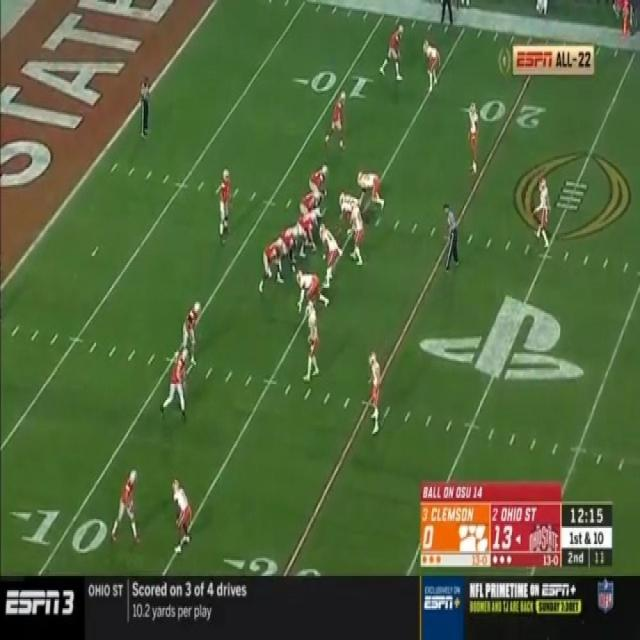center: (301, 208, 317, 249)
db: (170, 478, 194, 546), (469, 98, 482, 172), (307, 299, 321, 366), (370, 354, 382, 430), (538, 181, 551, 249), (425, 42, 440, 86)
lb: (321, 228, 342, 290), (350, 206, 366, 262)
qb: (219, 171, 230, 233)
